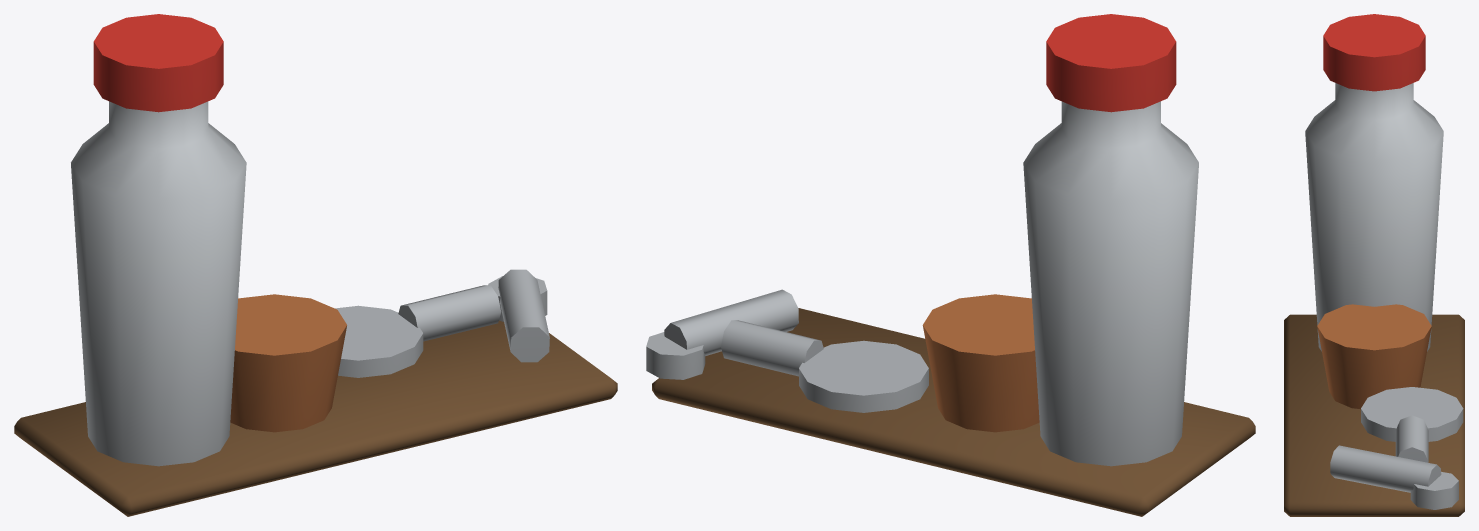
Rendered from SM_Shaker_Set_01.glb.
3 views of the same model, side by side, from view 1: azimuth 30°, elevation 25°; view 2: azimuth 150°, elevation 25°; view 3: azimuth 270°, elevation 25° (orthographic). The views are drawn at different scales.
Parts seen in each view (by area): view 1: SM_Shaker_Set_01; view 2: SM_Shaker_Set_01; view 3: SM_Shaker_Set_01.
Boxes of the visible parts, left/top/right/bottom form: SM_Shaker_Set_01: left=14, top=14, right=617, bottom=516; SM_Shaker_Set_01: left=646, top=14, right=1255, bottom=516; SM_Shaker_Set_01: left=1284, top=14, right=1464, bottom=516.
Size of the model in its own units: 0.311 by 0.24 by 0.12.
Materials: 1 (1 with a texture image).
